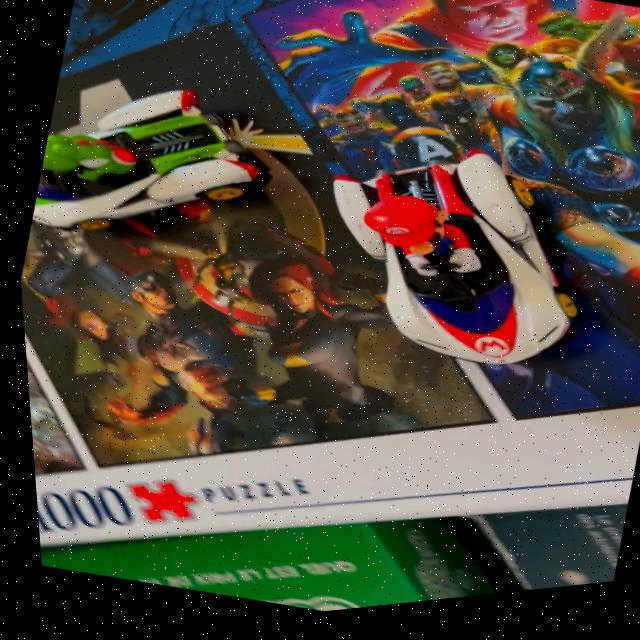mario: (287, 105, 637, 419)
yoshi: (16, 20, 310, 300)
